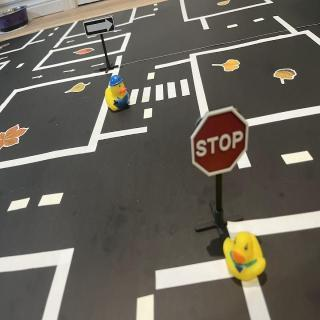duck_regular: (224, 233, 268, 284)
duck_specialty: (106, 76, 132, 114)
road_crosswalk: (128, 78, 193, 108)
road_oneway: (91, 62, 107, 70), (63, 69, 77, 75), (31, 75, 45, 81), (113, 28, 125, 34), (66, 39, 76, 45), (87, 36, 98, 41)
sign_oneway_right: (85, 15, 117, 38)
sign_stop: (192, 107, 250, 179)
